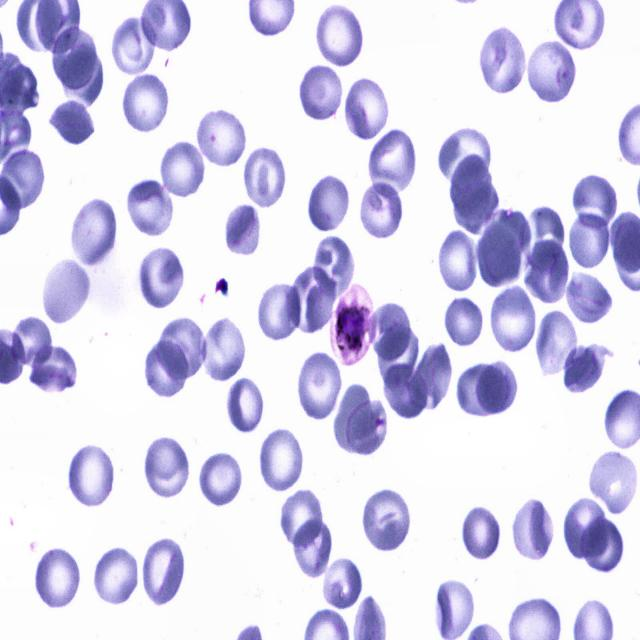red blood cell: (478, 211, 531, 291), (524, 38, 579, 108), (68, 196, 119, 270), (313, 2, 368, 68), (41, 256, 91, 327), (156, 317, 208, 384), (138, 244, 187, 312), (140, 534, 186, 606), (368, 128, 416, 197), (435, 127, 493, 184), (490, 286, 540, 352), (142, 335, 192, 401), (590, 452, 640, 517), (298, 350, 342, 423), (200, 316, 247, 383), (372, 323, 420, 388), (481, 27, 526, 96), (344, 76, 391, 142), (288, 266, 335, 332), (451, 153, 494, 225), (563, 498, 611, 562), (67, 444, 116, 506), (380, 361, 430, 421), (511, 496, 555, 564), (333, 383, 375, 454), (411, 343, 453, 414), (142, 438, 190, 500), (126, 176, 177, 234), (362, 489, 408, 553), (258, 429, 304, 493), (26, 341, 80, 395), (437, 227, 480, 294), (160, 138, 208, 198), (196, 110, 246, 167), (538, 308, 578, 379), (59, 44, 104, 107), (34, 548, 81, 608), (52, 26, 96, 90), (457, 364, 510, 417), (278, 491, 324, 552), (121, 75, 170, 132), (572, 174, 620, 231), (524, 240, 568, 302), (306, 175, 352, 234), (242, 147, 287, 207), (566, 270, 614, 326), (112, 15, 157, 74), (257, 282, 302, 341), (298, 66, 343, 125), (92, 548, 140, 603), (452, 181, 500, 234), (314, 236, 355, 298), (580, 518, 623, 575), (10, 315, 54, 370), (568, 212, 609, 270), (200, 453, 244, 507), (462, 505, 503, 562), (362, 182, 402, 240), (526, 206, 566, 264), (294, 519, 332, 580), (372, 302, 411, 361), (476, 361, 520, 413), (225, 378, 266, 432), (48, 100, 96, 146), (346, 400, 386, 455), (322, 558, 363, 610), (566, 339, 604, 395), (445, 298, 485, 348), (224, 204, 260, 257)
trophozoite: (330, 282, 376, 369)
